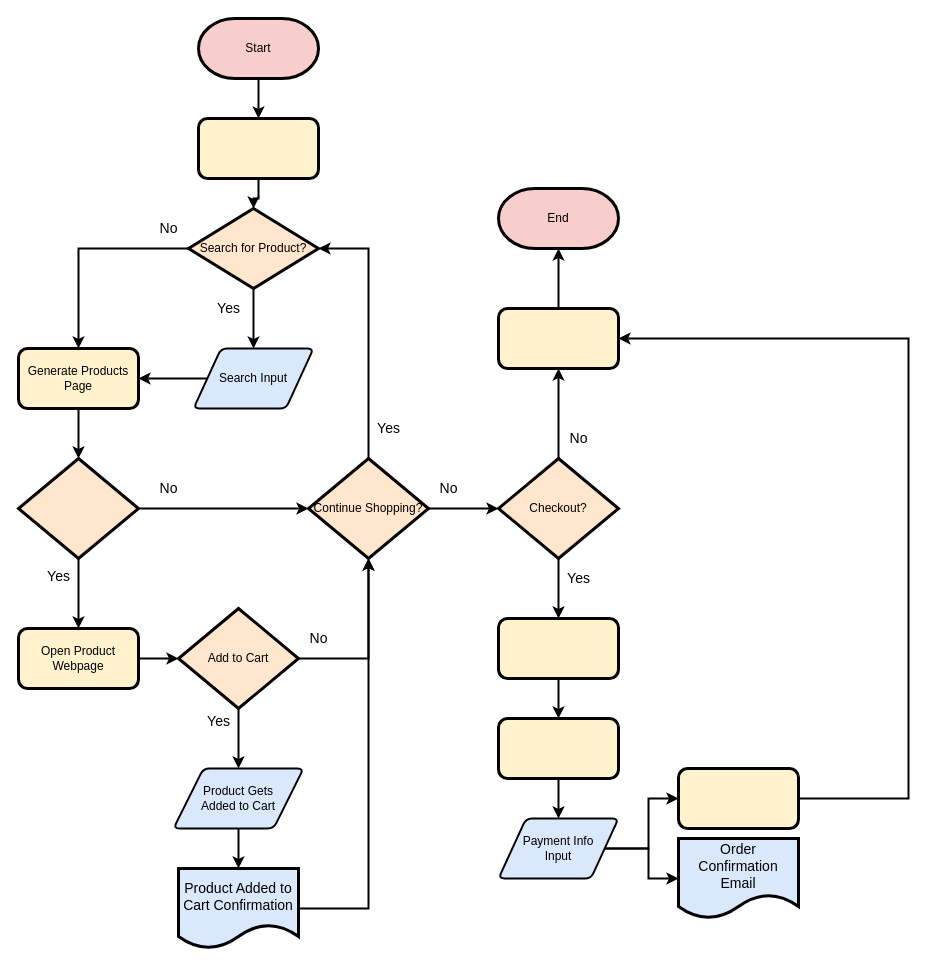
Image size: 935x967. Some labels were removed from this diagram. The shapes that lost their labels are listed below. From the top down, each one's centre as x and y in pixels, then its label:
At point 258,148: "User Enters".
At point 558,338: "User Leaves".
At point 78,508: "User Chooses Specific Product".
At point 558,648: "Open View Cart Screen".
At point 558,748: "Open View Payment Screen".
At point 738,798: "Order Confirmation Screen".
